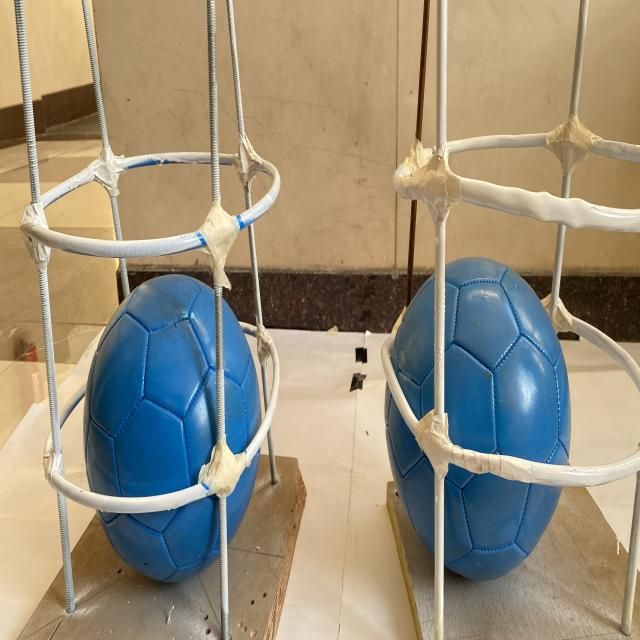blue_ball: (378, 244, 568, 570), (77, 271, 267, 568)
silo: (7, 0, 283, 640), (390, 0, 640, 636)
